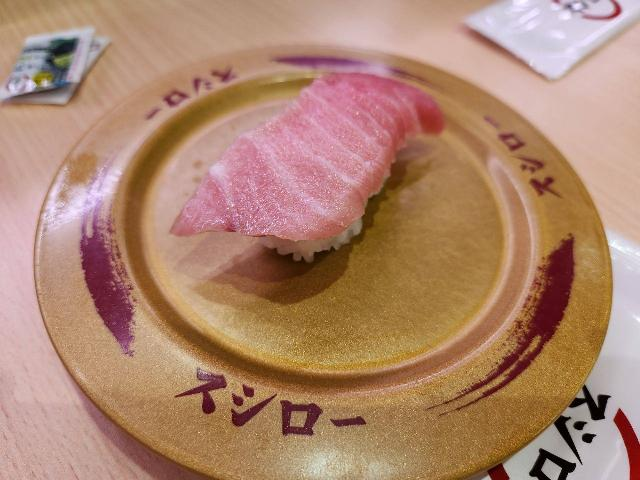jangold: (93, 64, 566, 450)
